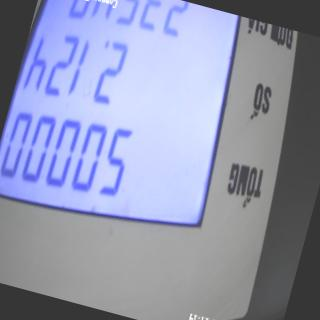screen: (0, 0, 263, 267)
